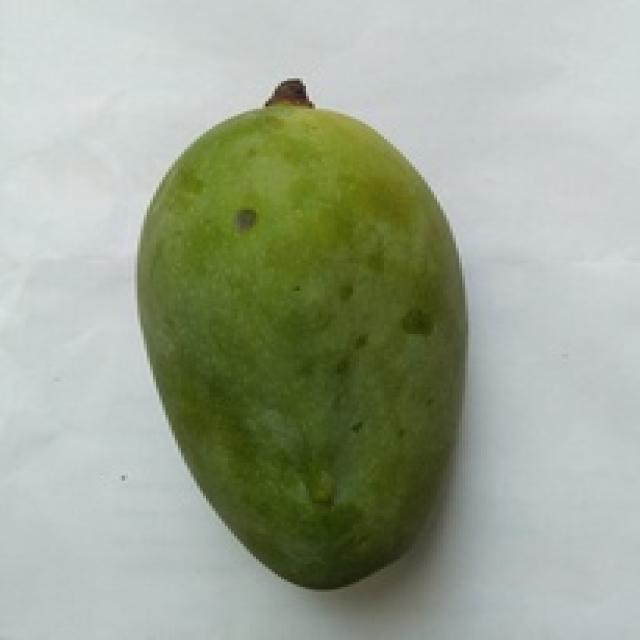Mango: (137, 81, 465, 587)
